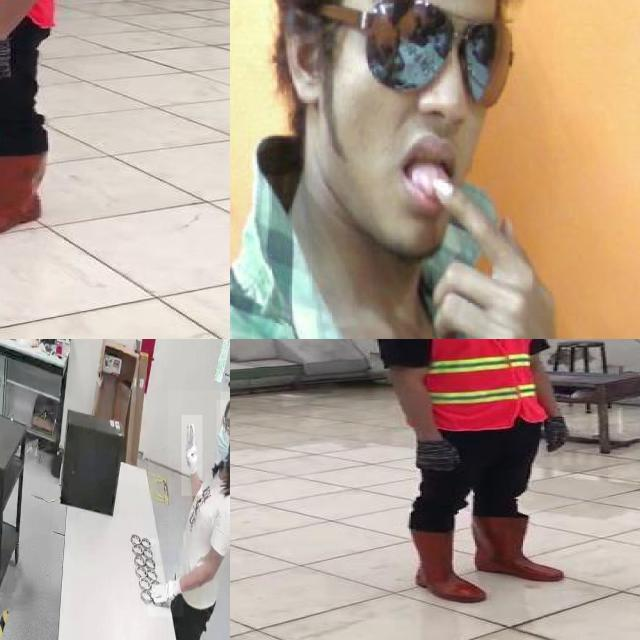boots: (470, 511, 568, 585), (0, 150, 67, 243), (412, 522, 485, 607)
face_mask: (216, 399, 230, 466)
face_nomask: (364, 0, 483, 200)
glasses: (321, 0, 521, 109)
hand_glove: (409, 438, 466, 473), (148, 566, 184, 618), (182, 415, 202, 496), (541, 411, 576, 453), (0, 37, 18, 82)
hand_noglove: (421, 176, 544, 339)
head_nohelmet: (220, 391, 230, 420)
person: (230, 0, 544, 339), (364, 339, 574, 604), (0, 0, 91, 249), (168, 390, 230, 640)
vest: (375, 339, 549, 433)
